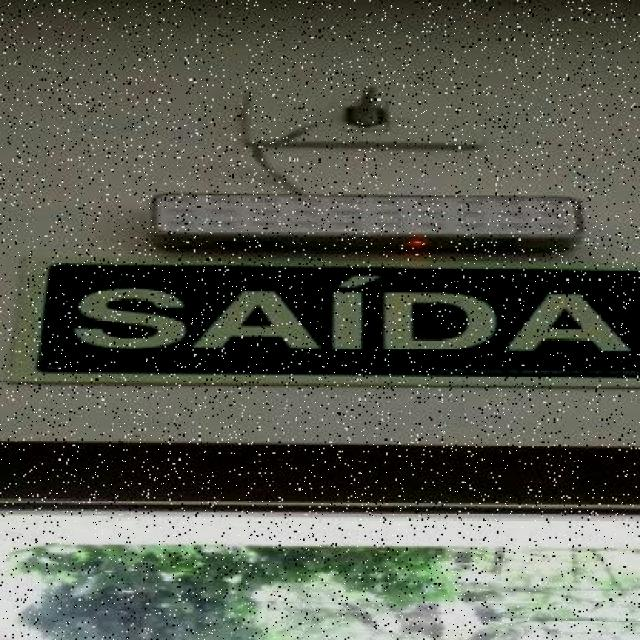emergency_exit: (1, 1, 639, 512), (36, 261, 639, 380), (151, 192, 584, 247)
